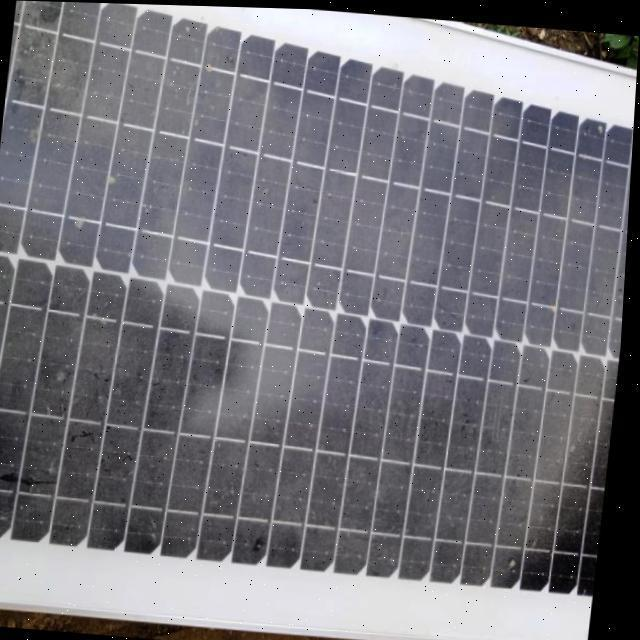Surface Contaminant: (0, 39, 637, 629)
